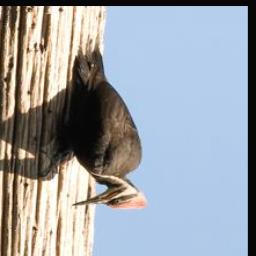Woodpecker: (41, 40, 149, 210)
